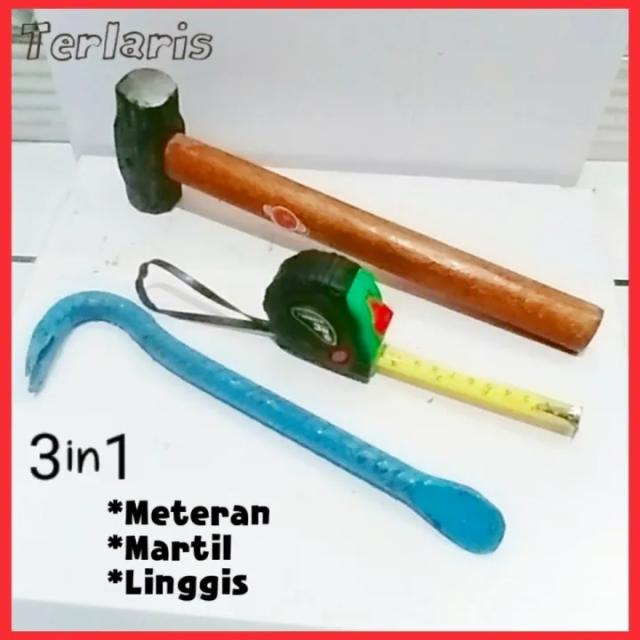Linggis: (26, 290, 505, 555)
